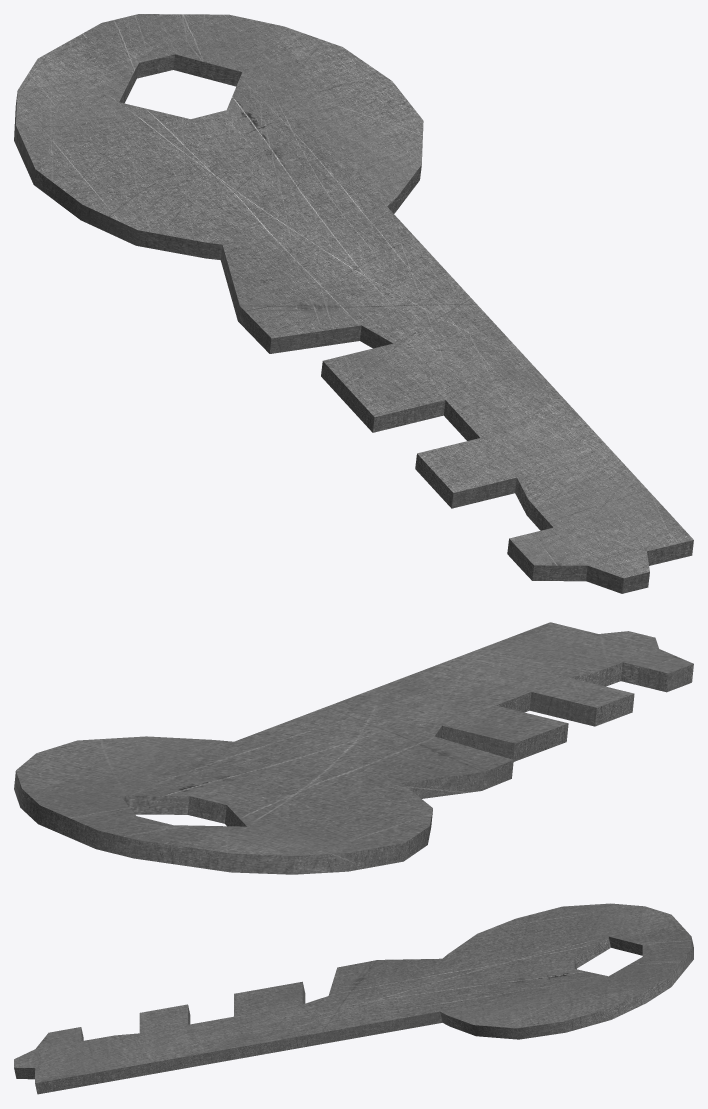
Rendered from key2.fbx.
3 renders of one model, top to bottom at view 1: azimuth 30°, elevation 25°; view 2: azimuth 150°, elevation 25°; view 3: azimuth 270°, elevation 25°, orthographic. The views are drawn at different scales.
Visible parts, largest first — view 1: Key 2; view 2: Key 2; view 3: Key 2.
Boxes of the visible parts, x1,y1,x2,y2 form: Key 2: (14,14,693,593); Key 2: (14,622,693,874); Key 2: (14,903,693,1094).
Bounding box in the file's own units: 3.34 × 1.77 × 8.32.
